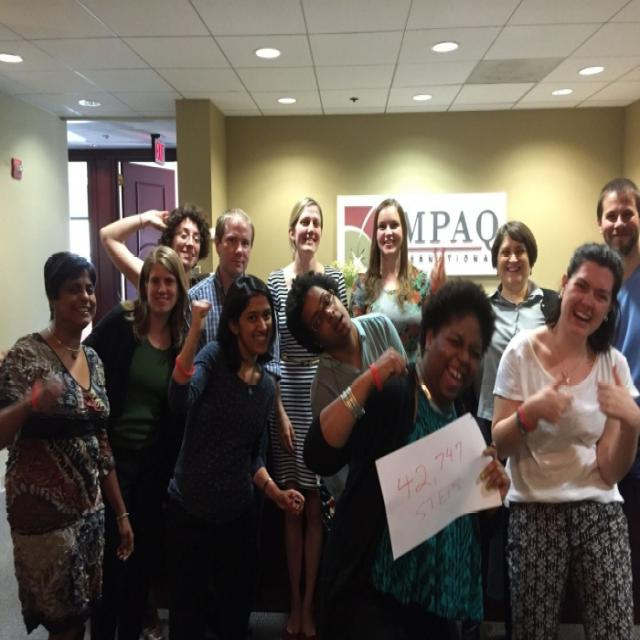body: (316, 273, 511, 639), (486, 236, 639, 639), (0, 247, 134, 638), (168, 272, 308, 639), (82, 243, 208, 638), (258, 191, 352, 639), (474, 217, 562, 634), (284, 267, 412, 507), (594, 176, 639, 630), (347, 196, 430, 364), (185, 207, 255, 361), (97, 202, 213, 292)
